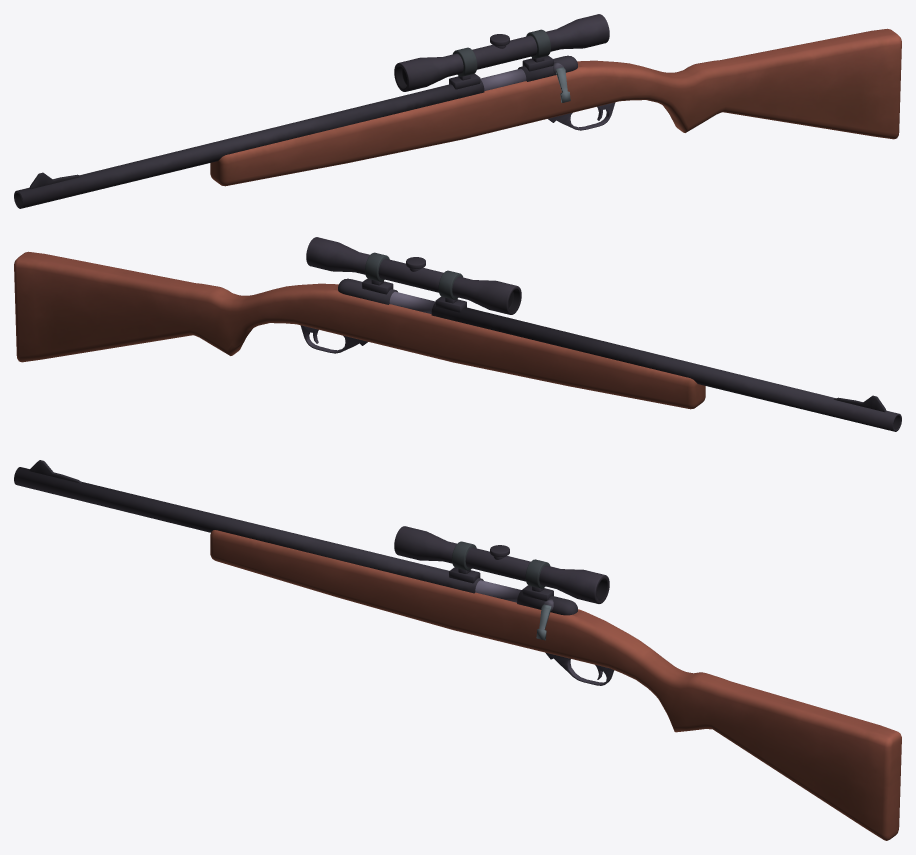
Rendered from sniper.fbx.
The picture shows the model from 3 angles, top to bottom: view 1: azimuth 30°, elevation 25°; view 2: azimuth 150°, elevation 25°; view 3: azimuth 330°, elevation 25°; orthographic projection.
Parts seen in each view (by area): view 1: sniper; view 2: sniper; view 3: sniper.
Boxes of the visible parts, x1,y1,x2,y2 form: sniper: (14,14,901,208); sniper: (14,237,901,431); sniper: (14,460,901,840).
Bounding box in the file's own units: 97.41 × 20.53 × 3.98.
1 material, 1 textured.
